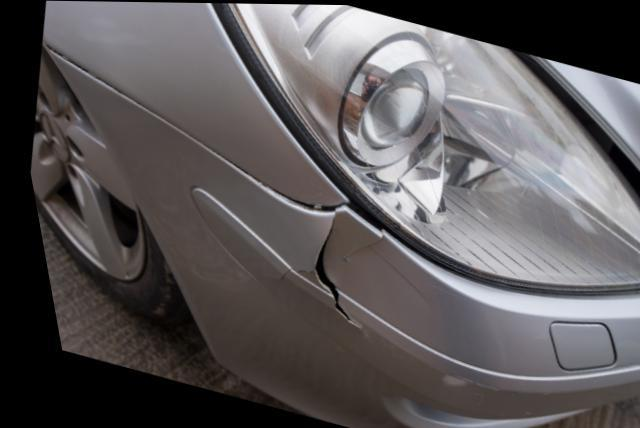crack: (250, 209, 352, 336), (334, 230, 417, 306)
